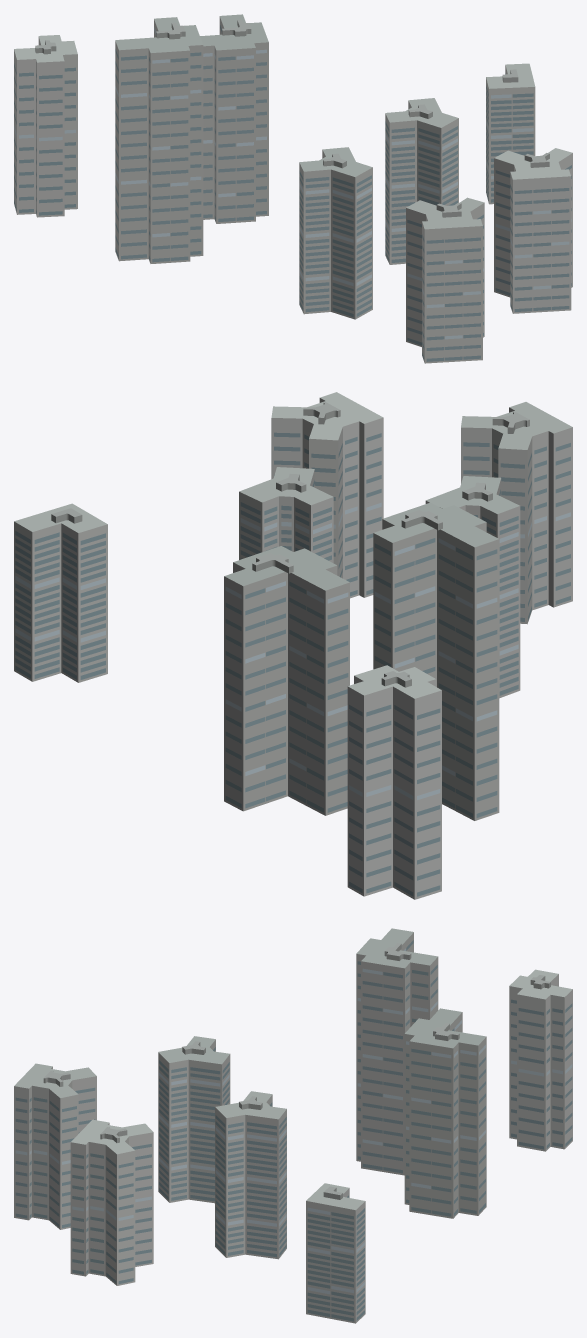
File: apt-a13508011.glb
3 renders of one model, top to bottom at view 1: azimuth 30°, elevation 25°; view 2: azimuth 150°, elevation 25°; view 3: azimuth 270°, elevation 25°, orthographic. The views are drawn at different scales.
Visible parts, largest first — view 1: apt-a13508011; view 2: apt-a13508011; view 3: apt-a13508011.
Boxes of the visible parts, bbox=[...] form: apt-a13508011: bbox=[14, 14, 572, 363]; apt-a13508011: bbox=[14, 392, 572, 899]; apt-a13508011: bbox=[14, 928, 572, 1323].
Size of the model in its own units: 212 by 104 by 248.
